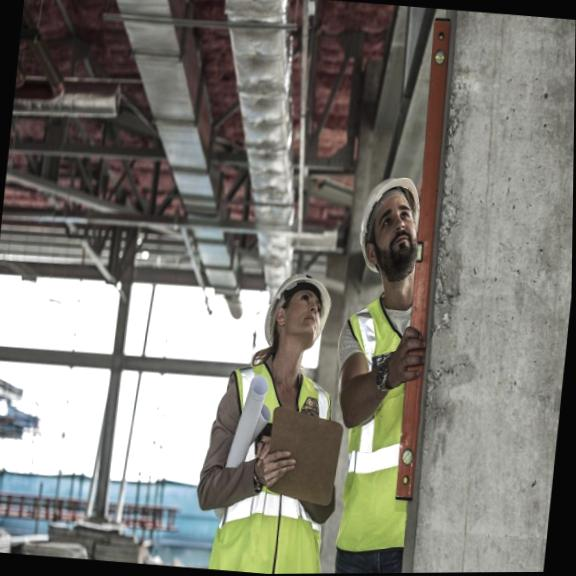safety_vest: (212, 356, 329, 574), (331, 295, 414, 552)
